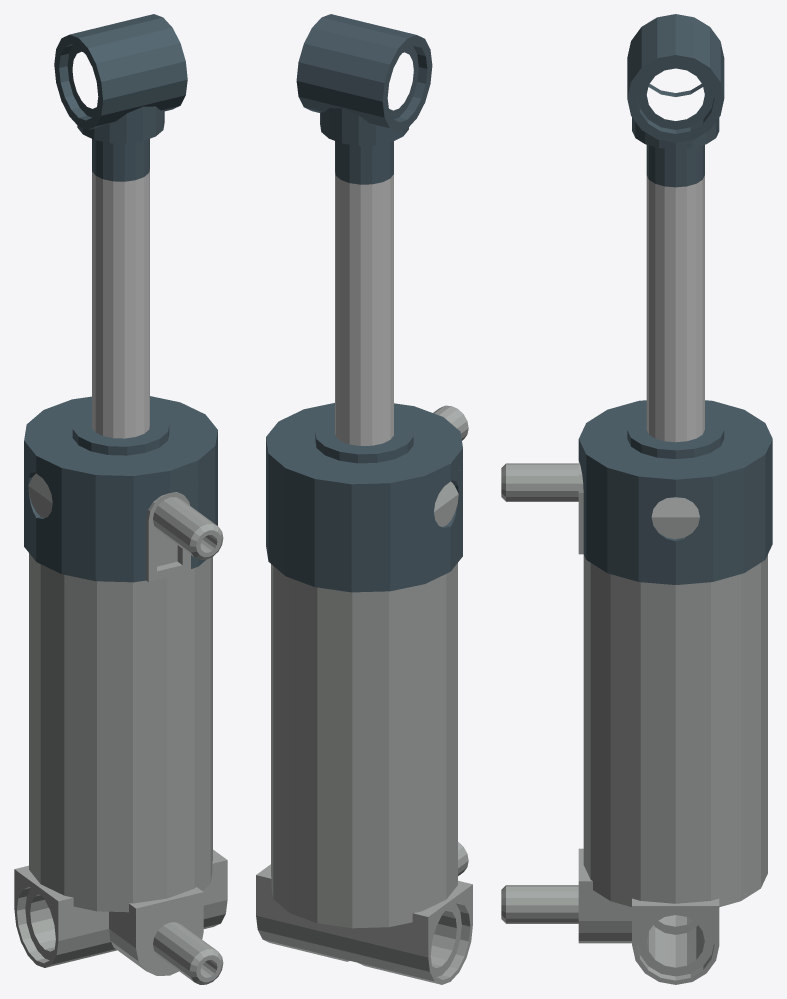
3 renders of one model, left to right at view 1: azimuth 30°, elevation 25°; view 2: azimuth 150°, elevation 25°; view 3: azimuth 270°, elevation 25°, orthographic. The views are drawn at different scales.
Parts seen in each view (by area): view 1: world; view 2: world; view 3: world.
Boxes of the visible parts, <box> form: world: <box>14,14,227,984</box>; world: <box>256,14,472,984</box>; world: <box>501,14,772,984</box>.
Bounding box in the file's own units: 0.016 × 0.0828 × 0.0224.
